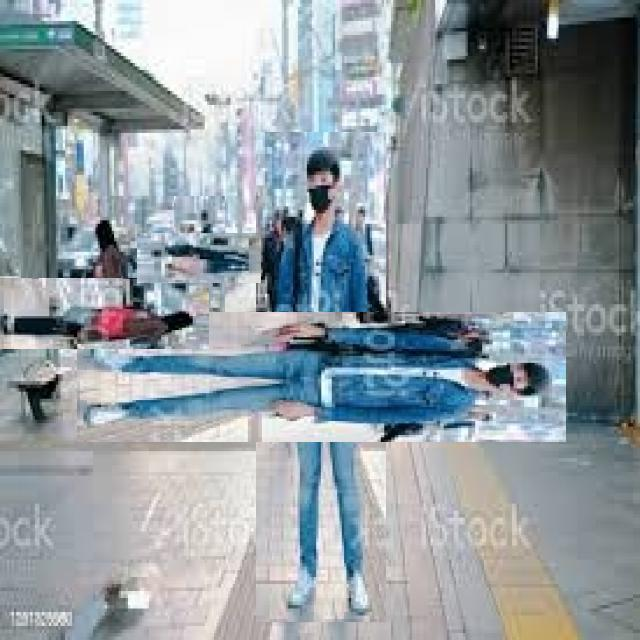NotFall: (15, 303, 558, 448)
